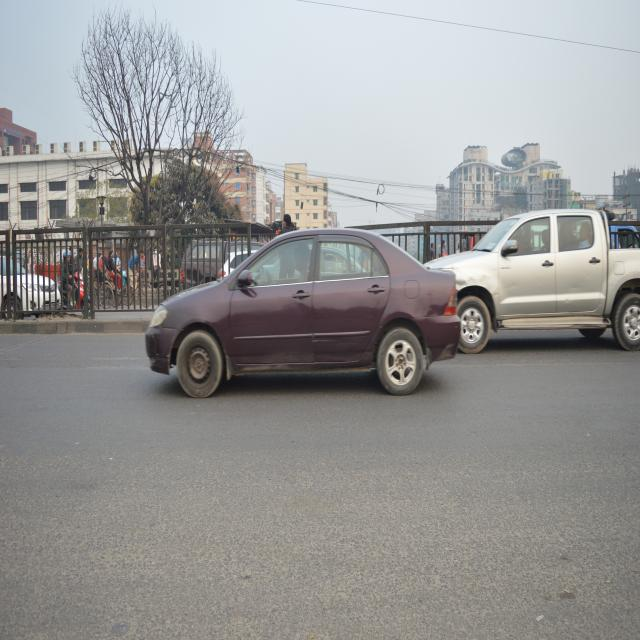car: (132, 218, 462, 404), (0, 233, 59, 327)
motorbike: (59, 250, 107, 326)
pickup-van: (456, 199, 640, 374)
